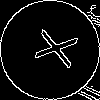X: (25, 25, 78, 70)
